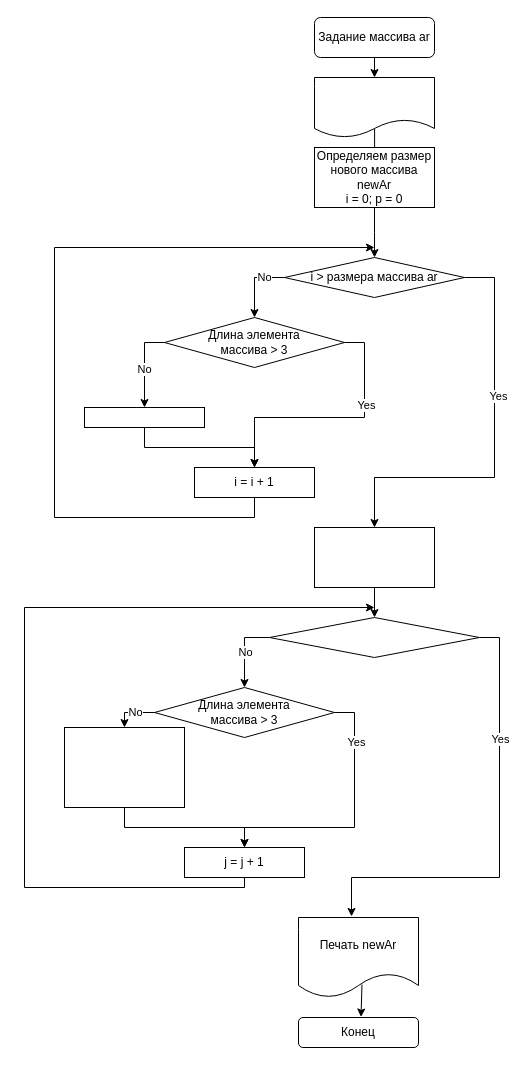
Some shapes in this 526 by 1065 pixel diagram are drawn without their labels. The centre of each missing label's shape, as x and y in pixels:
"j > размера массива ar" goes at pixel 374 637.
"p = p + 1" goes at pixel 144 417.
"Печать заданного массива ar" goes at pixel 374 107.
"Помещаем в ячейку t массива newAr значение из ячейки j массива newAr t = t + 1" goes at pixel 124 767.
"Создаем новый массив размером p; j = 0; t = 0" goes at pixel 374 557.
